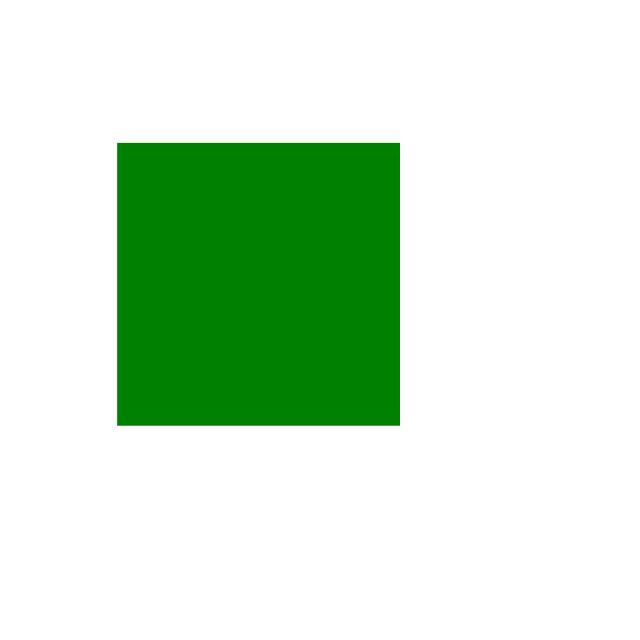square: (84, 111, 422, 438)
